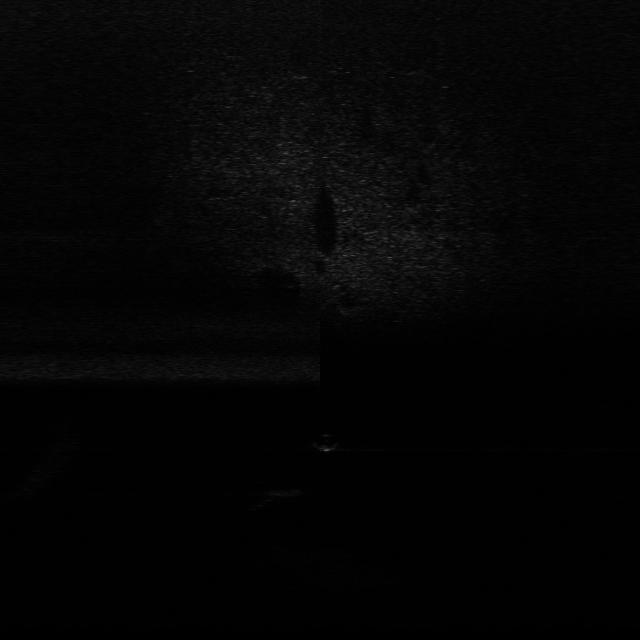ball: (311, 431, 343, 455)
square cage: (243, 479, 311, 504)
